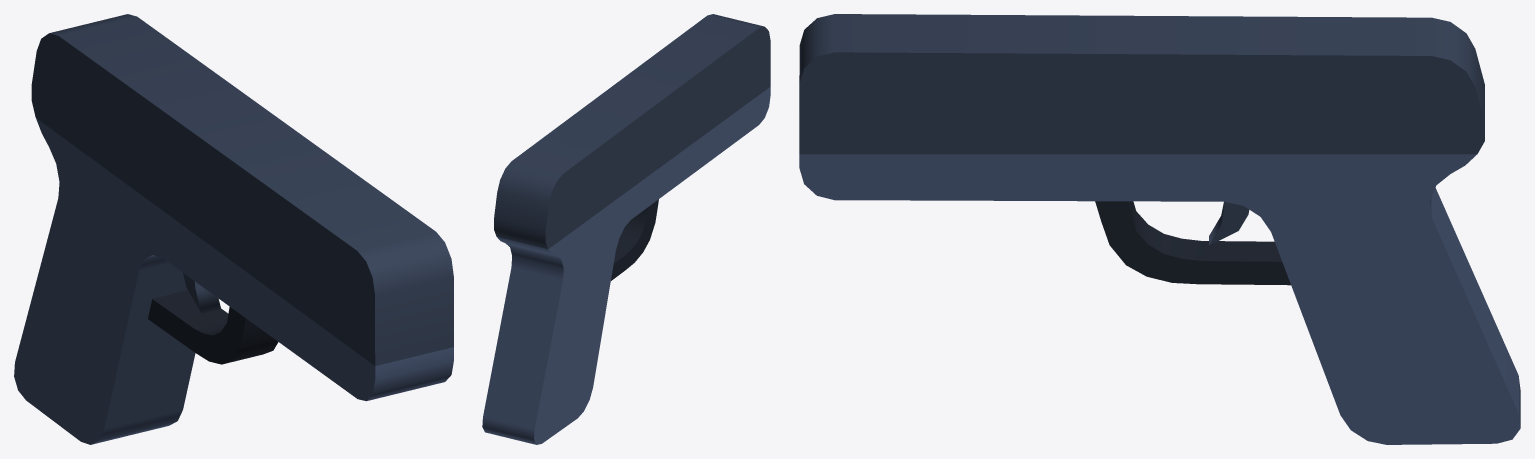
The model's file is Gun.fbx.
The picture shows the model from 3 angles, left to right: view 1: azimuth 30°, elevation 25°; view 2: azimuth 150°, elevation 25°; view 3: azimuth 270°, elevation 25°; orthographic projection. The views are drawn at different scales.
Visible parts, largest first — view 1: Gun; view 2: Gun; view 3: Gun.
Boxes of the visible parts, x1,y1,x2,y2 form: Gun: [14, 14, 453, 444]; Gun: [482, 14, 770, 444]; Gun: [799, 14, 1520, 444].
Size of the model in its own units: 0.0746 by 0.3557 by 0.5922.
